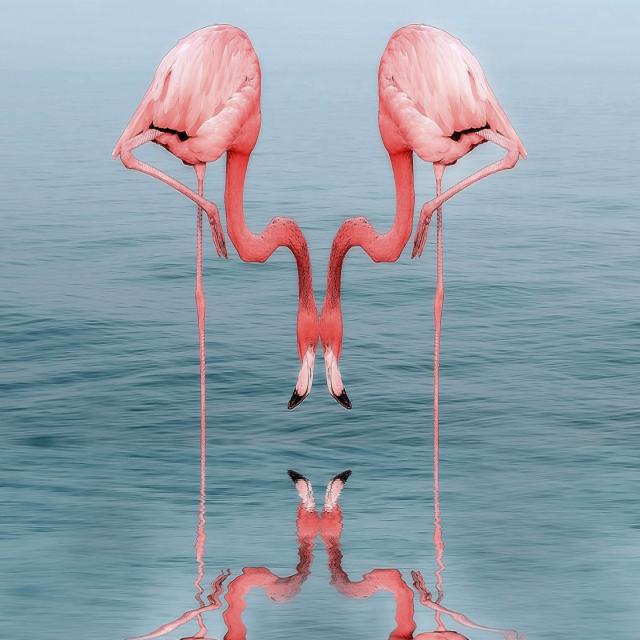flamingo: (319, 25, 526, 584), (113, 25, 319, 501)
